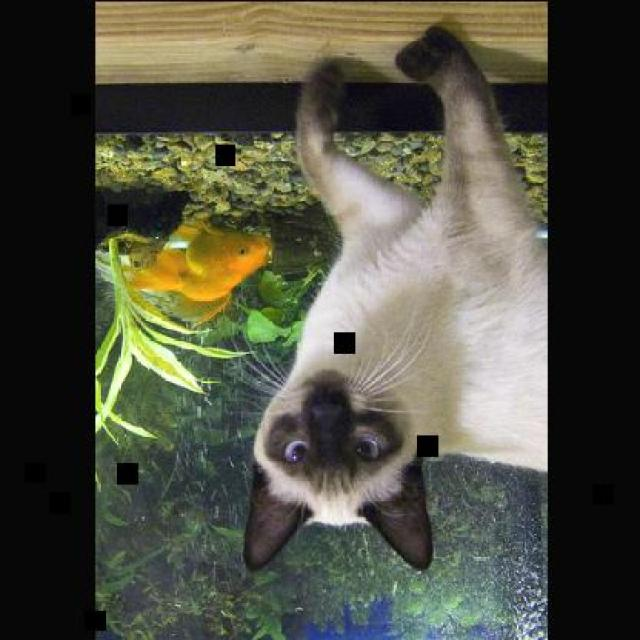unauthorized: (228, 23, 546, 572)
